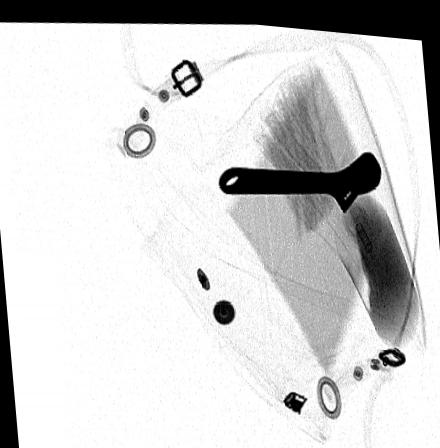Wrench: (216, 142, 384, 212)
